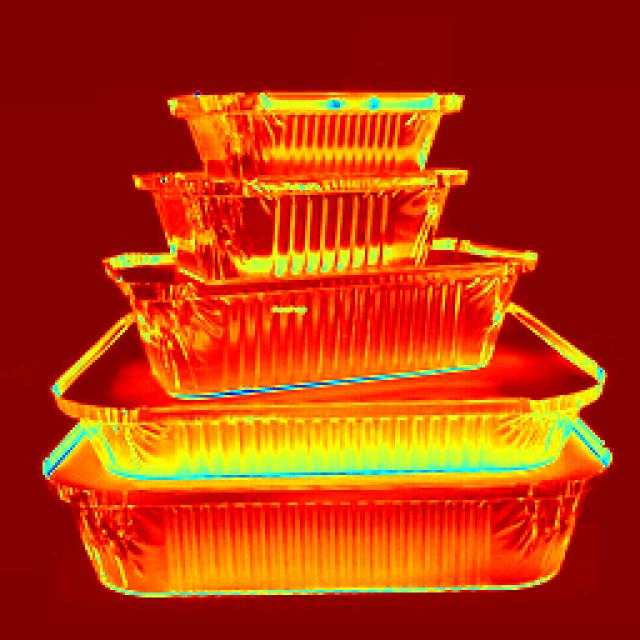Aluminium Food Cans: (54, 448, 588, 620), (76, 345, 593, 472), (125, 235, 497, 373), (167, 46, 443, 178), (143, 148, 439, 245)
